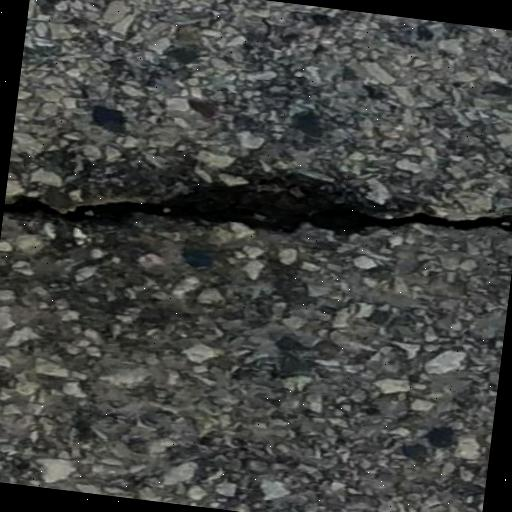spalling: (5, 155, 512, 241)
